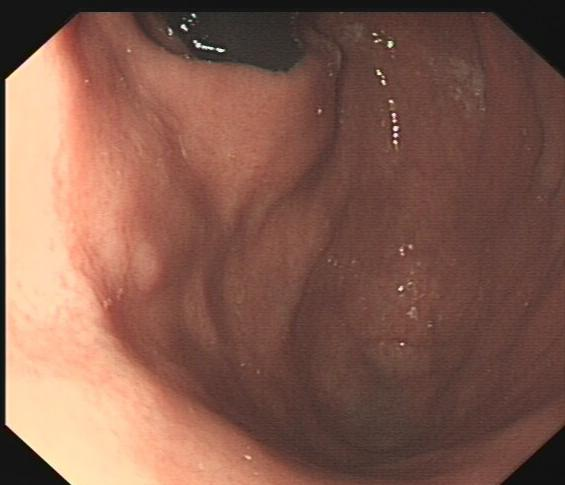Polyp: (121, 234, 174, 308)
